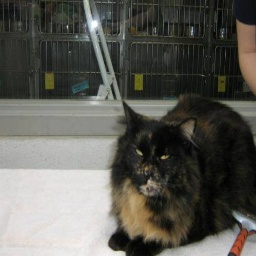cat: (105, 97, 255, 255)
